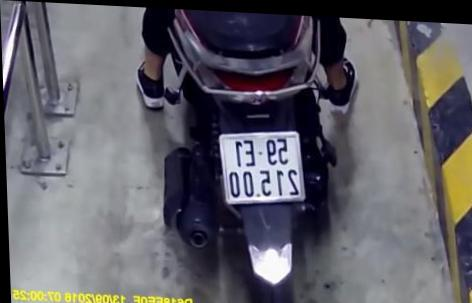License_Plate: (210, 124, 315, 210)
